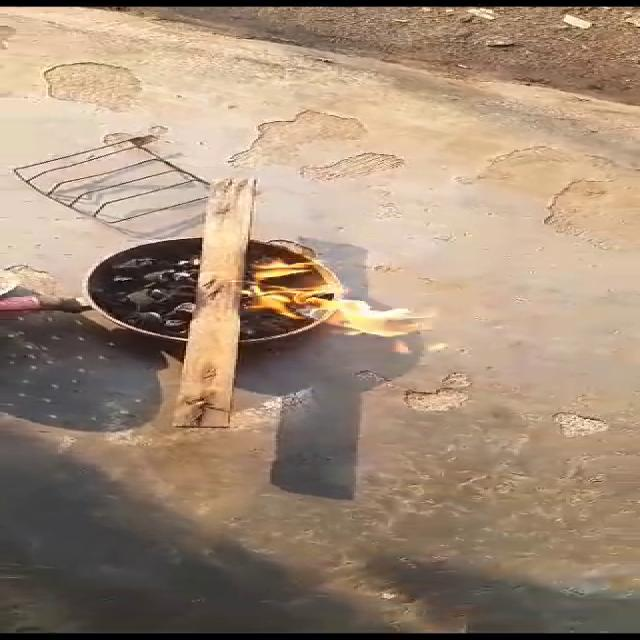Fire: (238, 243, 458, 369)
